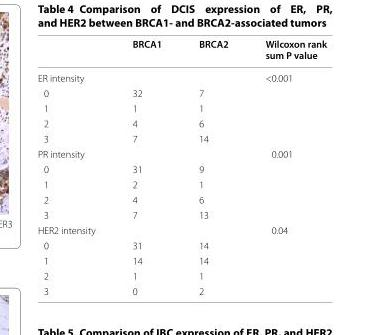table: (36, 36, 326, 296)
table column: (246, 36, 326, 296), (36, 36, 113, 296), (179, 36, 246, 296), (113, 36, 179, 296)
table column header: (36, 36, 326, 66)
table row: (36, 36, 326, 66), (36, 66, 326, 85), (36, 130, 326, 146), (36, 191, 326, 207), (36, 267, 326, 283), (36, 85, 326, 100), (36, 100, 326, 115), (36, 115, 326, 130), (36, 146, 326, 161), (36, 161, 326, 176), (36, 176, 326, 191), (36, 207, 326, 222), (36, 222, 326, 237), (36, 237, 326, 252), (36, 252, 326, 267), (36, 283, 326, 296)
